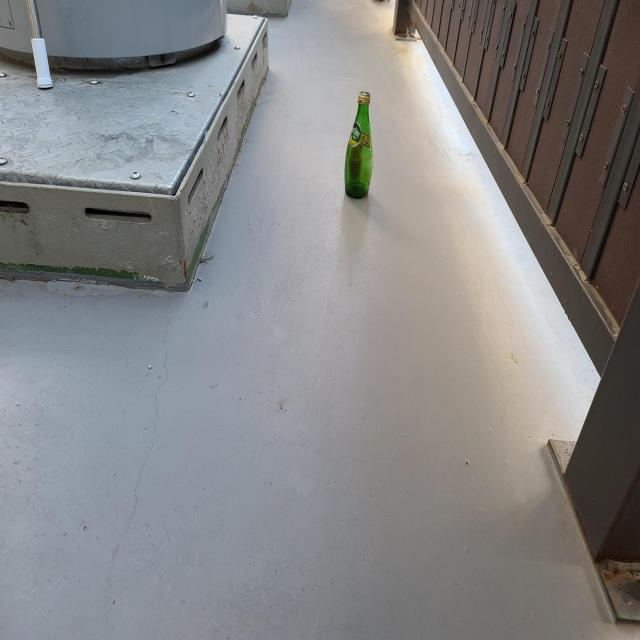glass: (345, 90, 373, 198)
